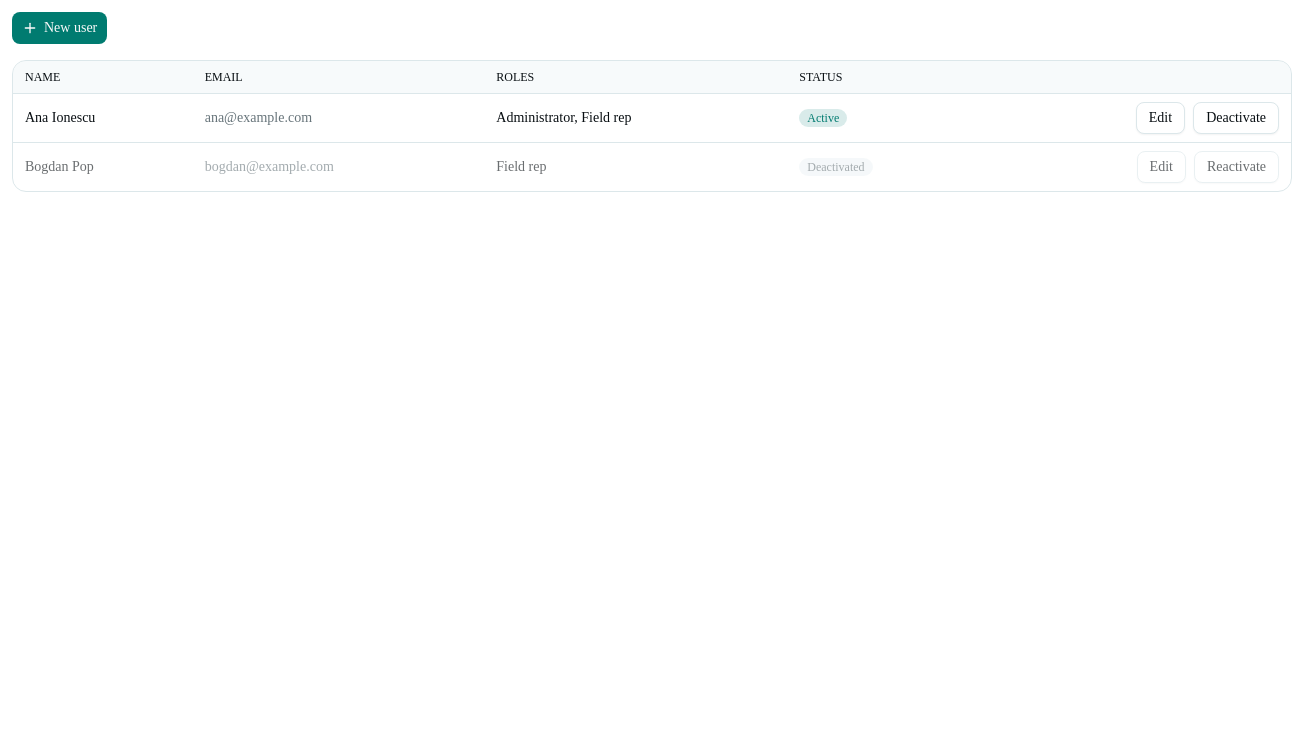
Scenario: <UserBrowser> › refuses something that is not a language tag
This screenshot has width=1292, height=732.
Expected: the table is shown, [13,61,1291,191]
Click the button with aria-label "Edit Ana Ionescu": (1160, 118) [1136,102,1185,134]
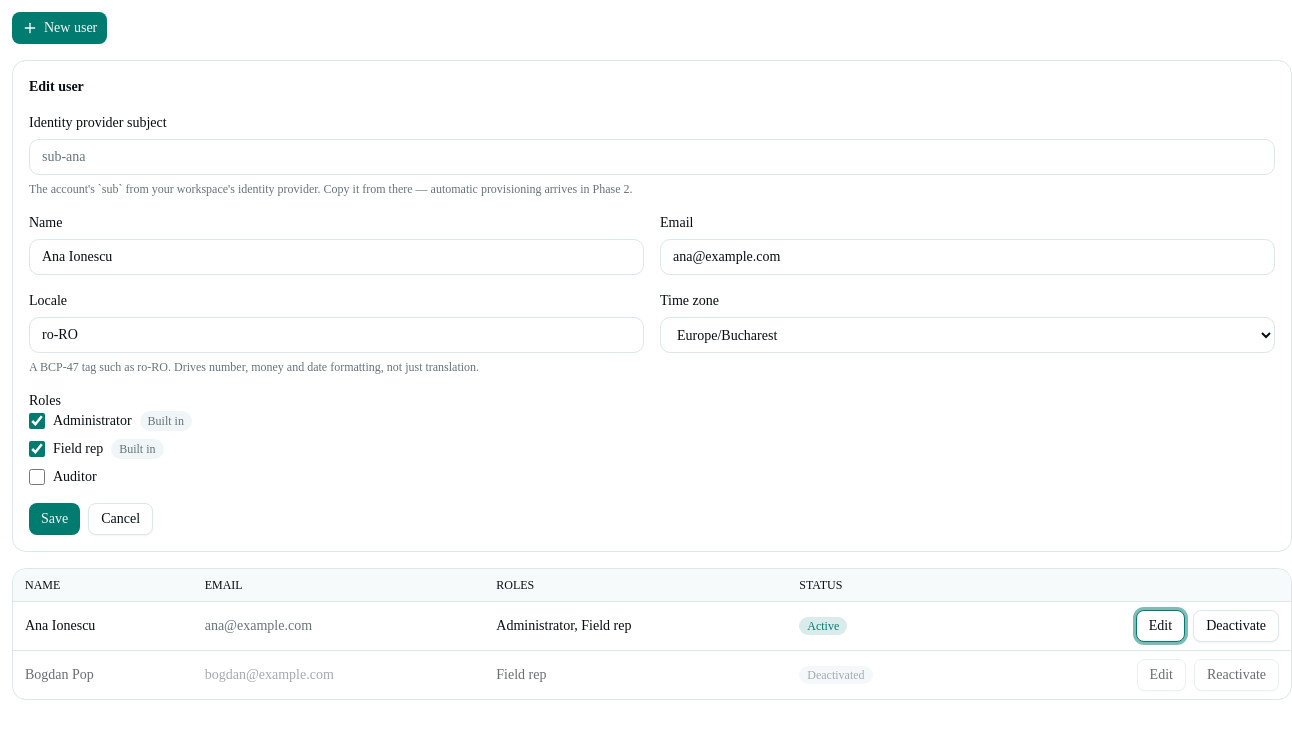
Replace the text in the field labelled "Locale" with "Romanian": (336, 335) [29,317,644,353]
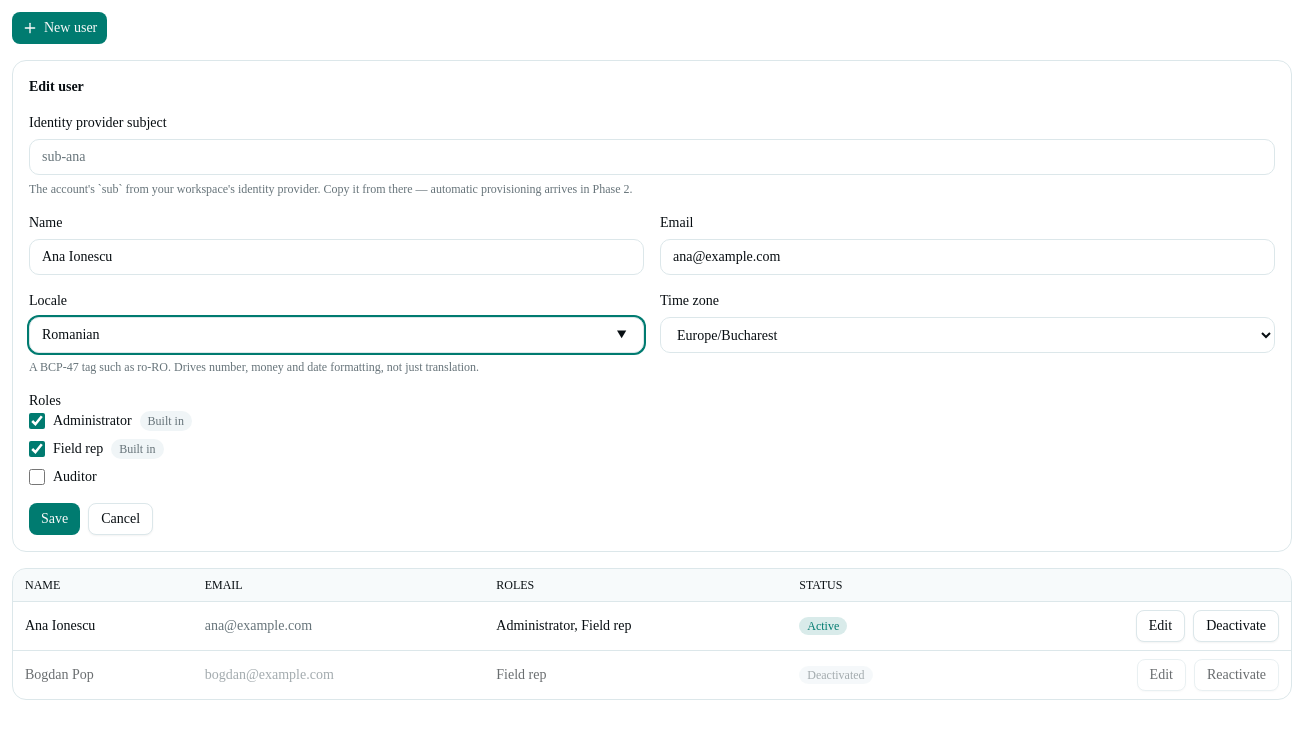
Click the button "Save": (55, 519) [29,503,80,535]
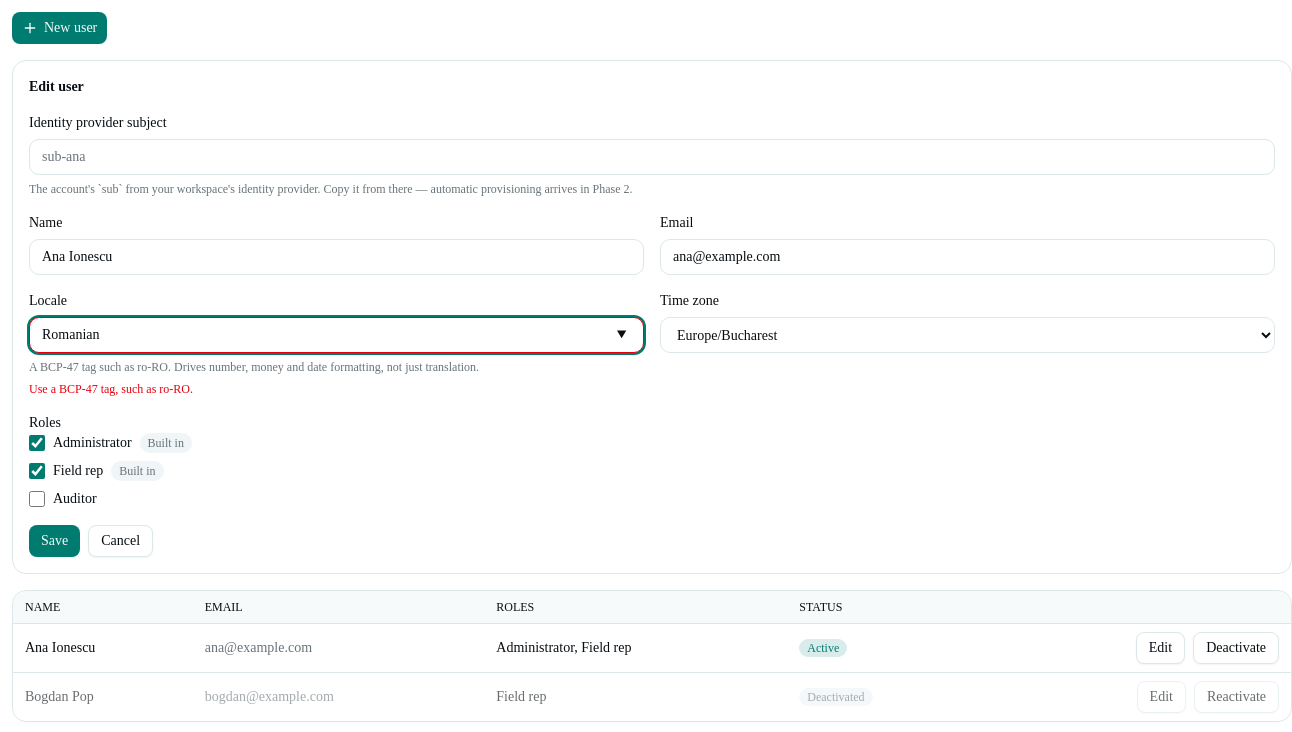
Expected: the text "Use a BCP-47 tag, such as ro-RO." is shown, [29,382,193,396]
